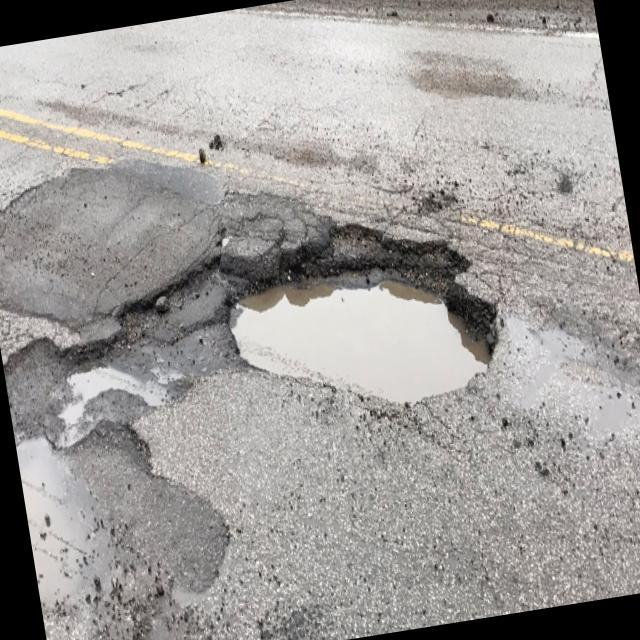Pothole: (200, 184, 517, 446)
